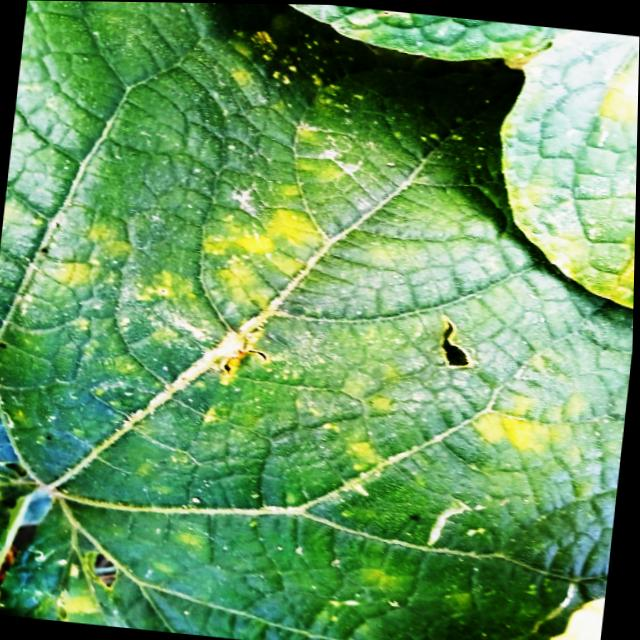Downy-Mildew: (0, 0, 635, 640), (498, 29, 639, 308)
